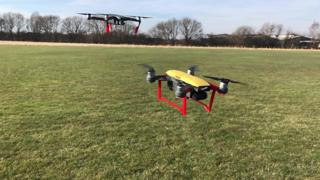UAV: (134, 63, 251, 116), (76, 14, 154, 34)
